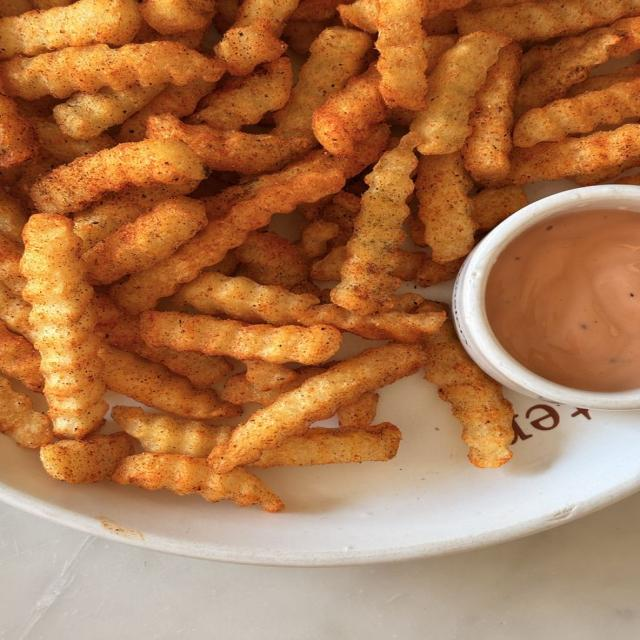potato fries: (0, 0, 639, 510), (113, 153, 344, 313), (211, 344, 426, 473), (21, 214, 107, 438), (332, 134, 417, 314), (0, 42, 225, 99), (31, 140, 206, 213), (425, 323, 513, 467), (412, 31, 510, 155), (274, 27, 372, 137), (83, 197, 206, 284), (140, 312, 341, 364), (112, 453, 284, 512), (100, 346, 237, 418), (147, 115, 313, 174), (106, 317, 232, 388), (515, 31, 621, 115), (74, 181, 199, 251), (514, 78, 639, 146), (0, 0, 141, 59), (463, 44, 521, 183), (507, 124, 639, 184), (457, 0, 639, 43), (174, 272, 319, 325), (190, 58, 293, 130), (251, 423, 401, 467), (416, 153, 476, 263), (313, 66, 386, 155), (214, 0, 298, 75), (116, 79, 213, 142), (54, 85, 164, 140), (113, 406, 231, 457), (376, 0, 427, 110), (298, 305, 446, 342), (40, 432, 133, 483), (236, 232, 308, 289), (221, 367, 326, 405), (30, 117, 114, 163), (0, 376, 51, 448), (0, 322, 44, 391), (0, 95, 38, 168), (140, 0, 215, 34), (471, 186, 528, 230), (566, 64, 639, 97), (0, 282, 33, 341), (300, 220, 341, 259), (246, 361, 298, 390), (0, 234, 24, 296), (337, 392, 379, 427), (0, 189, 26, 243), (416, 259, 463, 287), (338, 0, 377, 33), (310, 246, 346, 281)
